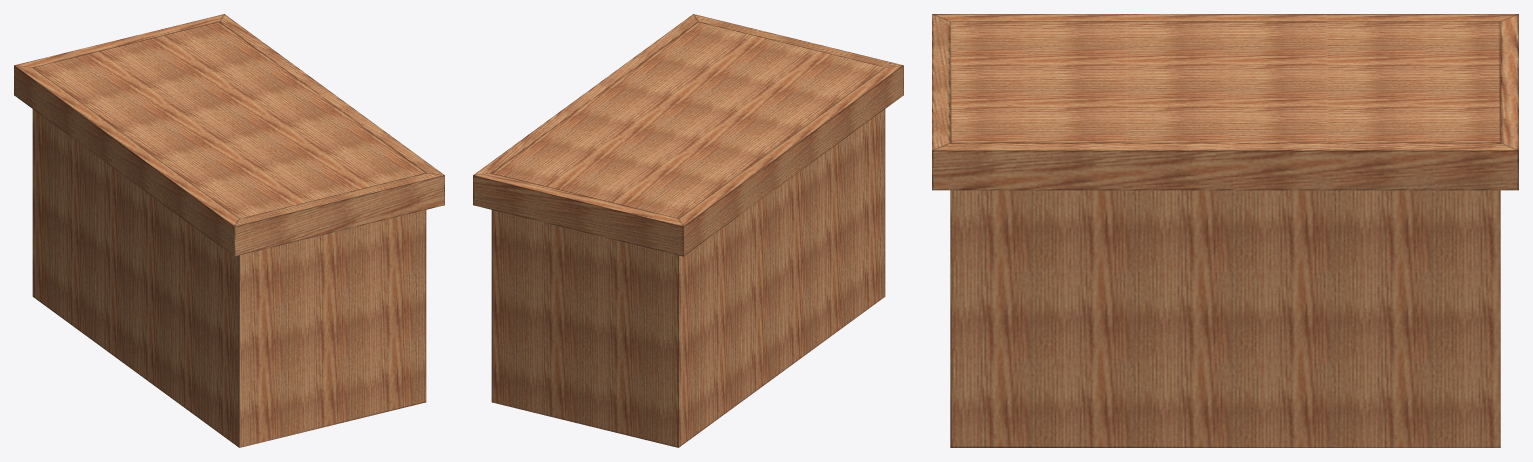
The model's file is physics_crate.fbx.
3 views of the same model, side by side, from view 1: azimuth 30°, elevation 25°; view 2: azimuth 150°, elevation 25°; view 3: azimuth 270°, elevation 25° (orthographic). The views are drawn at different scales.
Visible parts, largest first — view 1: physics_crate_UV:crate; view 2: physics_crate_UV:crate; view 3: physics_crate_UV:crate.
Part boxes in pixels (x1,y1,x2,y2): physics_crate_UV:crate: [14, 14, 444, 447]; physics_crate_UV:crate: [473, 14, 903, 447]; physics_crate_UV:crate: [932, 14, 1518, 447].
Size of the model in its own units: 103 by 107 by 186.
1 material, 1 textured.
